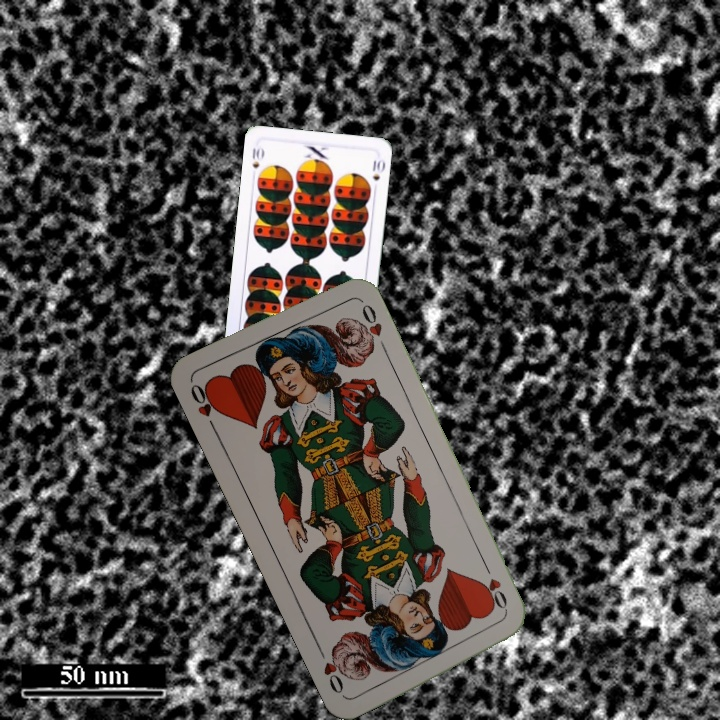HO: (186, 379, 222, 435), (480, 560, 511, 617)
S10: (248, 144, 266, 171)
